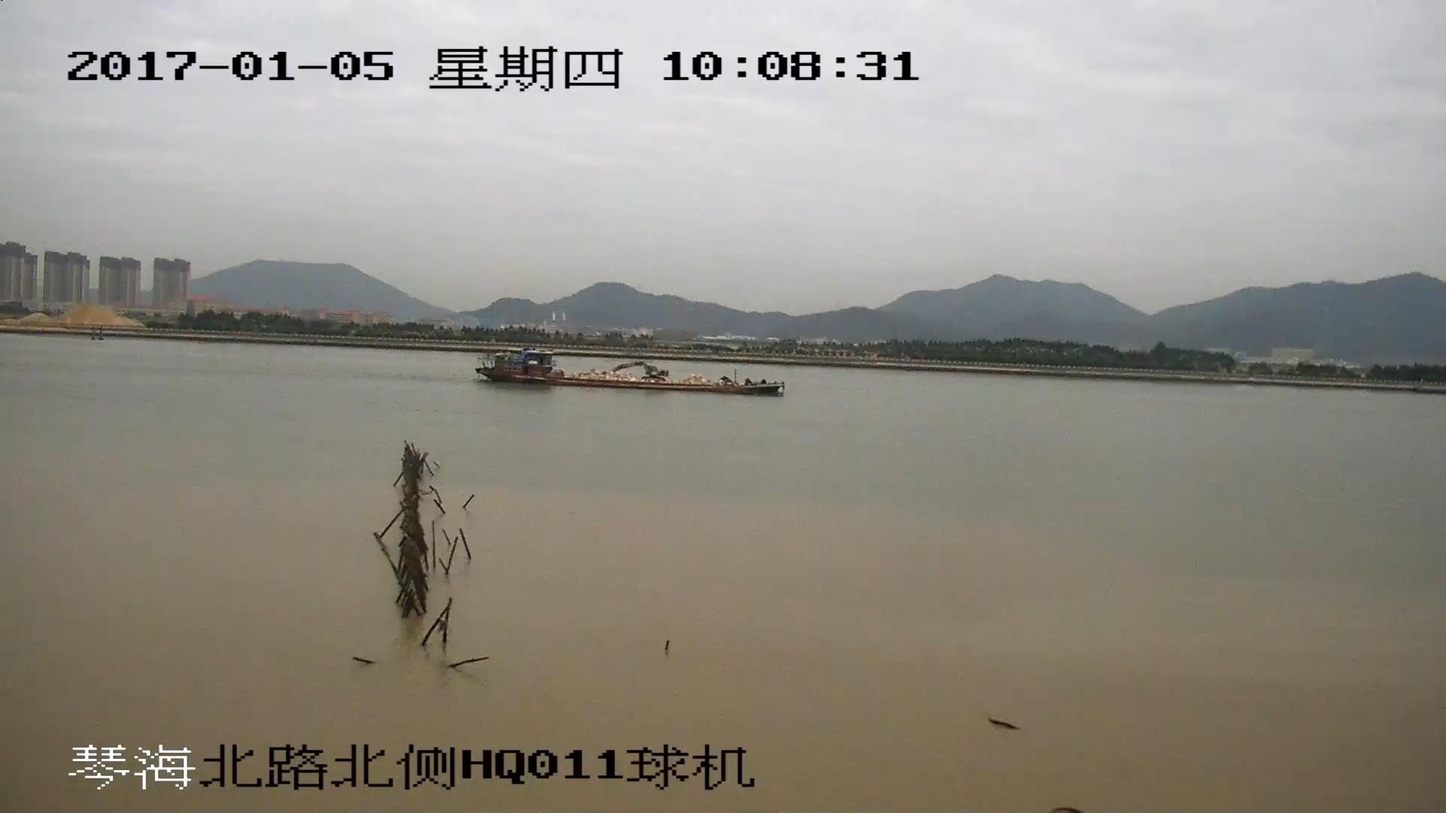bulk cargo carrier: (474, 348, 783, 394)
